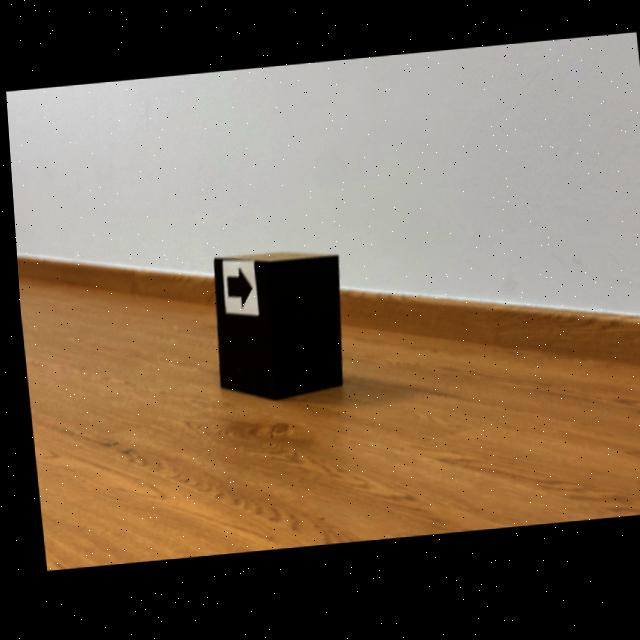RIGHT: (223, 271, 247, 308)
